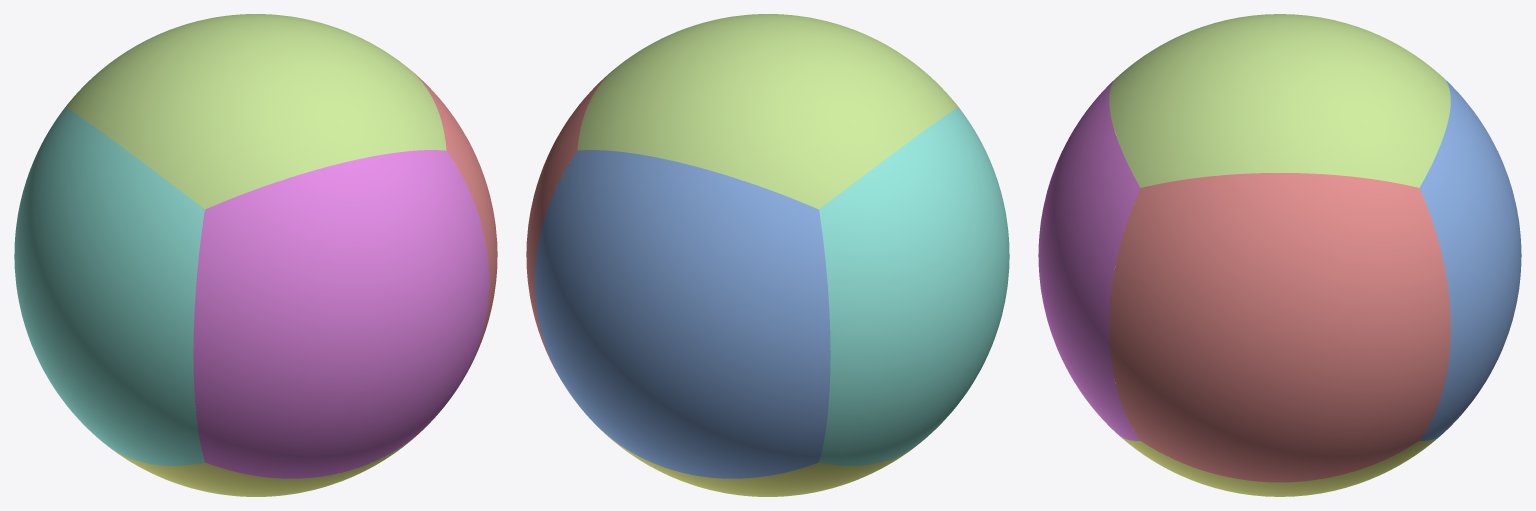
Rendered from planet-transformed.0977d68f.glb.
3 views of the same model, side by side, from view 1: azimuth 30°, elevation 25°; view 2: azimuth 150°, elevation 25°; view 3: azimuth 270°, elevation 25° (orthographic).
Parts seen in each view (by area): view 1: planet; view 2: planet; view 3: planet.
Boxes of the visible parts, x1,y1,x2,y2 form: planet: (14,14,497,496); planet: (526,14,1009,496); planet: (1038,14,1521,496).
Size of the model in its own units: 2 by 2 by 2.
